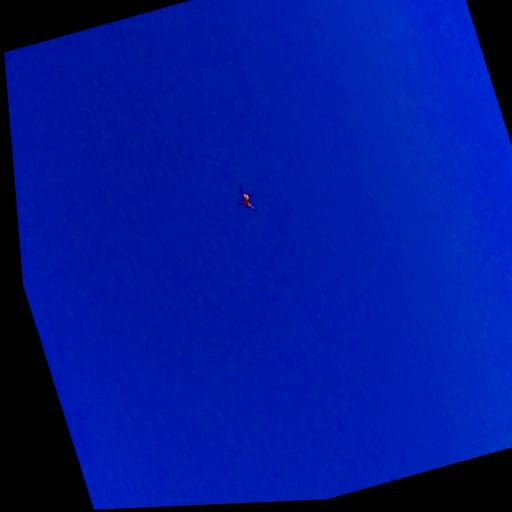drones: (228, 178, 262, 222)
